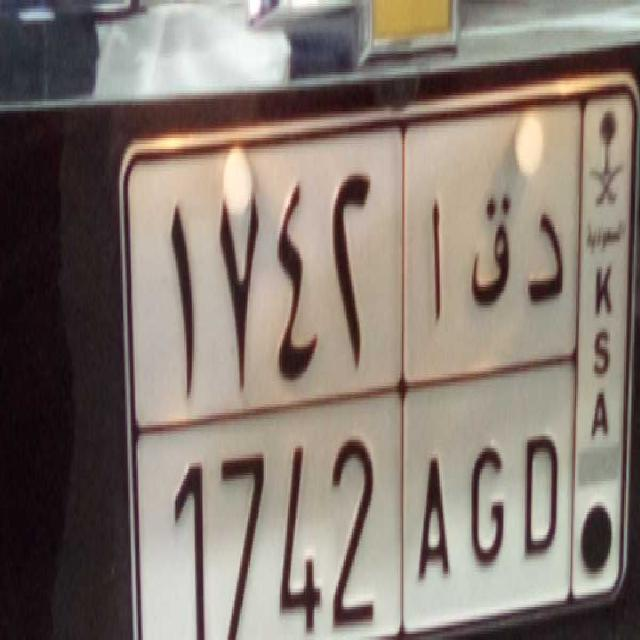license_plate: (167, 401, 573, 640)
